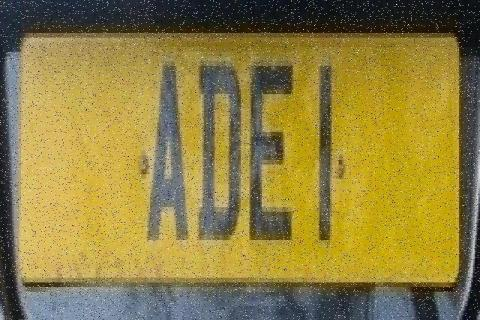LicensePlate: (10, 6, 467, 314)
